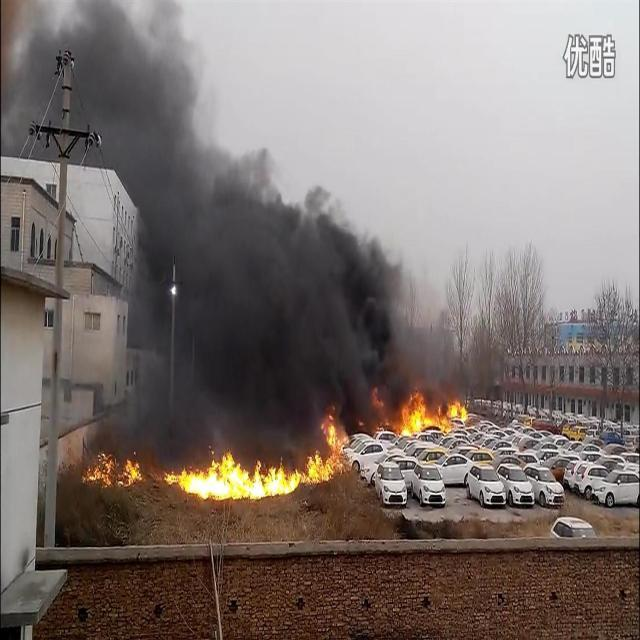Fire: (162, 409, 350, 501), (399, 389, 468, 439), (80, 451, 142, 486)
Smoke: (0, 1, 457, 472)
